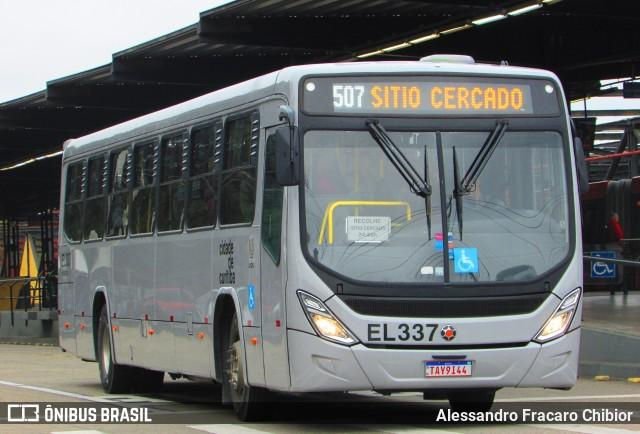SITIO CERCADO: (366, 84, 529, 114)
